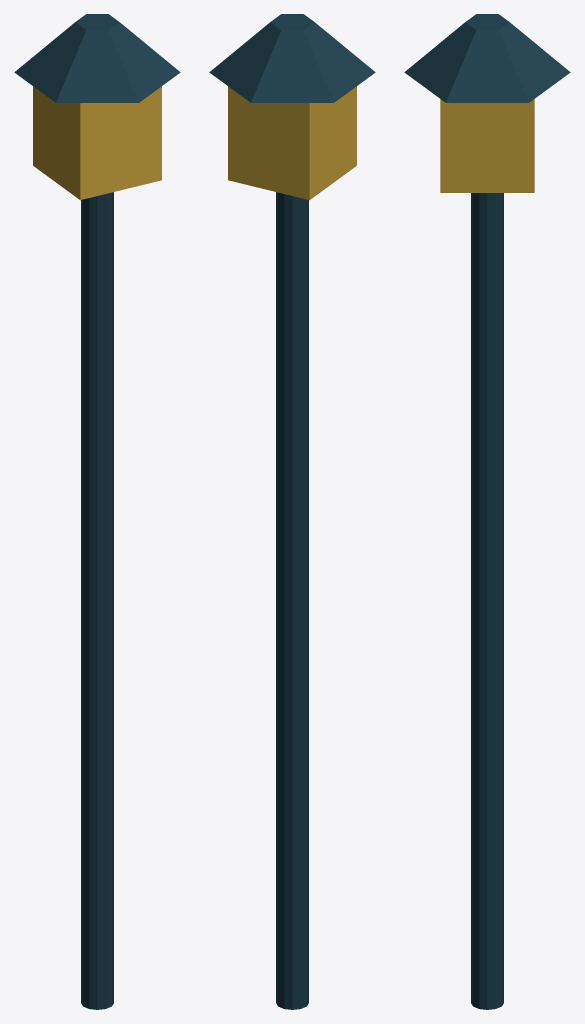
Rendered from promenade_lantern.glb.
3 views of the same model, side by side, from view 1: azimuth 30°, elevation 25°; view 2: azimuth 150°, elevation 25°; view 3: azimuth 270°, elevation 25° (orthographic).
Parts seen in each view (by area): view 1: promenade_lantern_pc; view 2: promenade_lantern_pc; view 3: promenade_lantern_pc.
Part boxes in pixels (<box>): promenade_lantern_pc: <box>14,14,180,1009</box>; promenade_lantern_pc: <box>209,14,375,1009</box>; promenade_lantern_pc: <box>404,14,570,1009</box>.
Size of the model in its own units: 0.5196 by 3.9 by 0.6.
